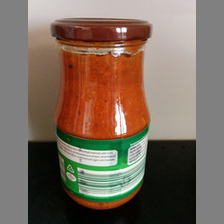tomato_sauce: (50, 17, 154, 210)
